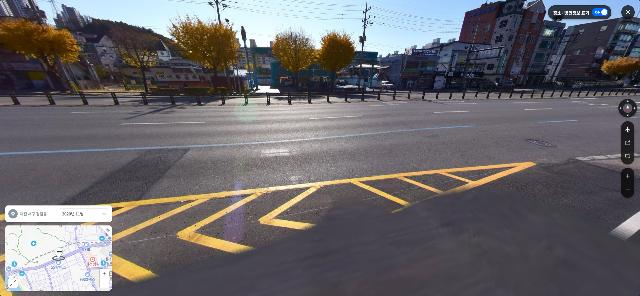ginkgo: (1, 16, 82, 92), (167, 14, 243, 94), (271, 26, 317, 91), (115, 32, 160, 92), (317, 30, 356, 90), (600, 57, 639, 85)
